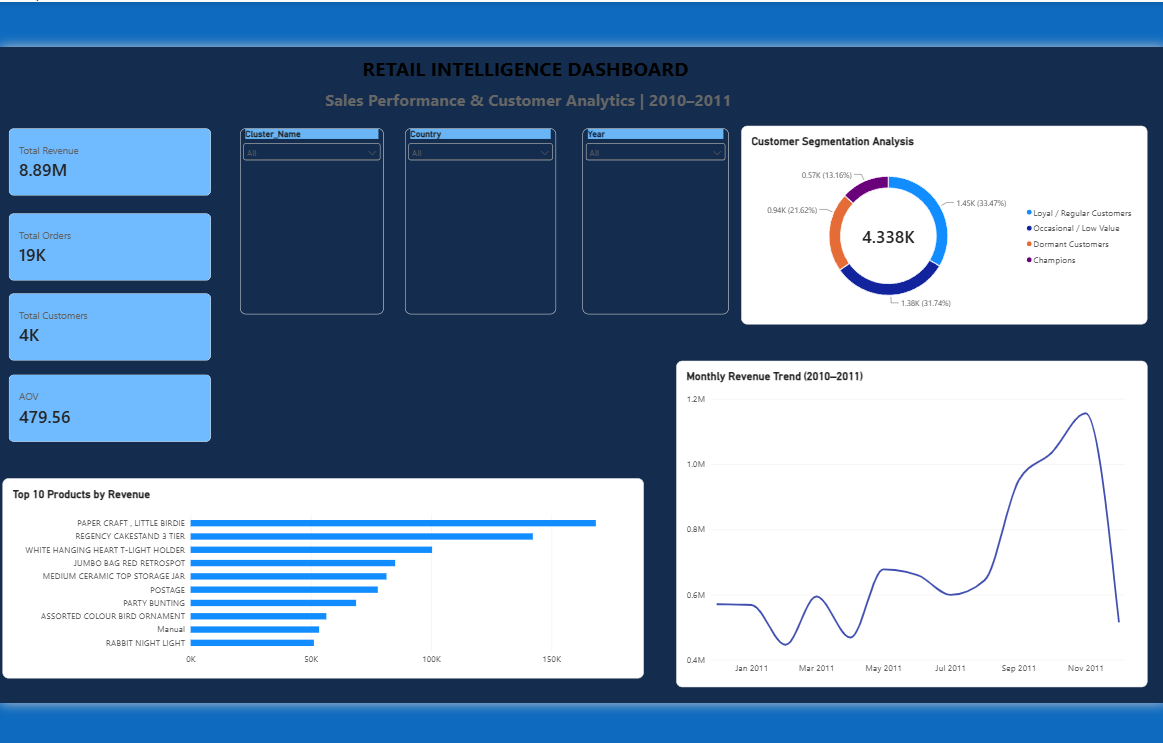

What the dashboard file says about the page in this screenshot:
{"tool":"powerbi","page":{"name":"Page 1","canvas":[1920,1080],"ordinal":0},"visuals":[{"type":"cardVisual","fields":{"Data":["retail_cleaned.Total Revenue"]},"box":[14.4,133.8,333.3,111],"z":0},{"type":"cardVisual","fields":{"Data":["retail_cleaned.Total Orders"]},"box":[14.4,273.8,333,111],"z":1000},{"type":"cardVisual","fields":{"Data":["retail_cleaned.Total Customers"]},"box":[14.4,405.5,333,111],"z":2000},{"type":"cardVisual","fields":{"Data":["retail_cleaned.AOV"]},"box":[14.4,539.3,333.3,111],"z":3000},{"type":"lineChart","title":"Monthly Revenue Trend (2010–2011)","fields":{"Category":["retail_cleaned.InvoiceDate.Variation.Date Hierarchy.Year","retail_cleaned.InvoiceDate.Variation.Date Hierarchy.Month"],"Y":["Sum(retail_cleaned.Revenue)"]},"box":[1113.6,516.6,776,537.2],"z":4000},{"type":"clusteredBarChart","title":"Top 10 Products by Revenue","fields":{"Category":["retail_cleaned.Description"],"Y":["Sum(retail_cleaned.Revenue)"]},"box":[4.1,710.1,1055.9,329.3],"z":5000},{"type":"donutChart","title":"Customer Segmentation Analysis","fields":{"Category":["rfm_customer_segments.Cluster_Name"],"Y":["CountNonNull(rfm_customer_segments.CustomerID)"]},"box":[1220.6,129.7,669,327.3],"z":6000},{"type":"textbox","box":[429,8.2,1062.1,164.7],"z":7000},{"type":"slicer","fields":{"Values":["retail_cleaned.InvoiceDate.Variation.Date Hierarchy.Year"]},"box":[959.2,133.8,240.8,306.7],"z":7001},{"type":"slicer","fields":{"Values":["retail_cleaned.Country"]},"box":[666.9,133.8,249.1,306.7],"z":7002},{"type":"slicer","fields":{"Values":["rfm_customer_segments.Cluster_Name"]},"box":[395.2,133.8,236.7,306.7],"z":7003}]}

Visuals, with their boxes in screenshot pixels (x1, y1, x2, y2):
cardVisual - retail_cleaned.Total Revenue: [0, 119, 194, 188]
cardVisual - retail_cleaned.Total Orders: [0, 206, 194, 275]
cardVisual - retail_cleaned.Total Customers: [0, 287, 194, 356]
cardVisual - retail_cleaned.AOV: [0, 370, 194, 439]
"Monthly Revenue Trend (2010–2011)" lineChart: [668, 356, 1149, 689]
"Top 10 Products by Revenue" clusteredBarChart: [0, 476, 635, 680]
"Customer Segmentation Analysis" donutChart: [735, 117, 1149, 319]
textbox: [244, 41, 902, 143]
slicer - retail_cleaned.InvoiceDate.Variation.Date Hierarchy.Year: [573, 119, 722, 309]
slicer - retail_cleaned.Country: [392, 119, 546, 309]
slicer - rfm_customer_segments.Cluster_Name: [224, 119, 370, 309]
